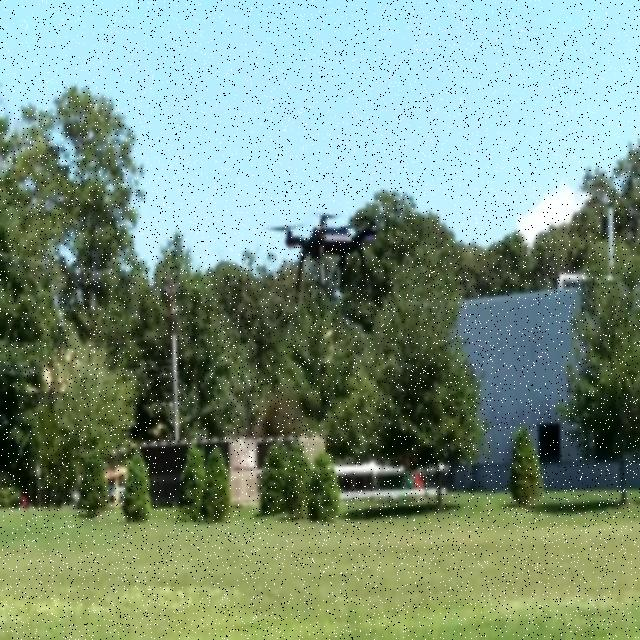UAV: (265, 212, 377, 294)
